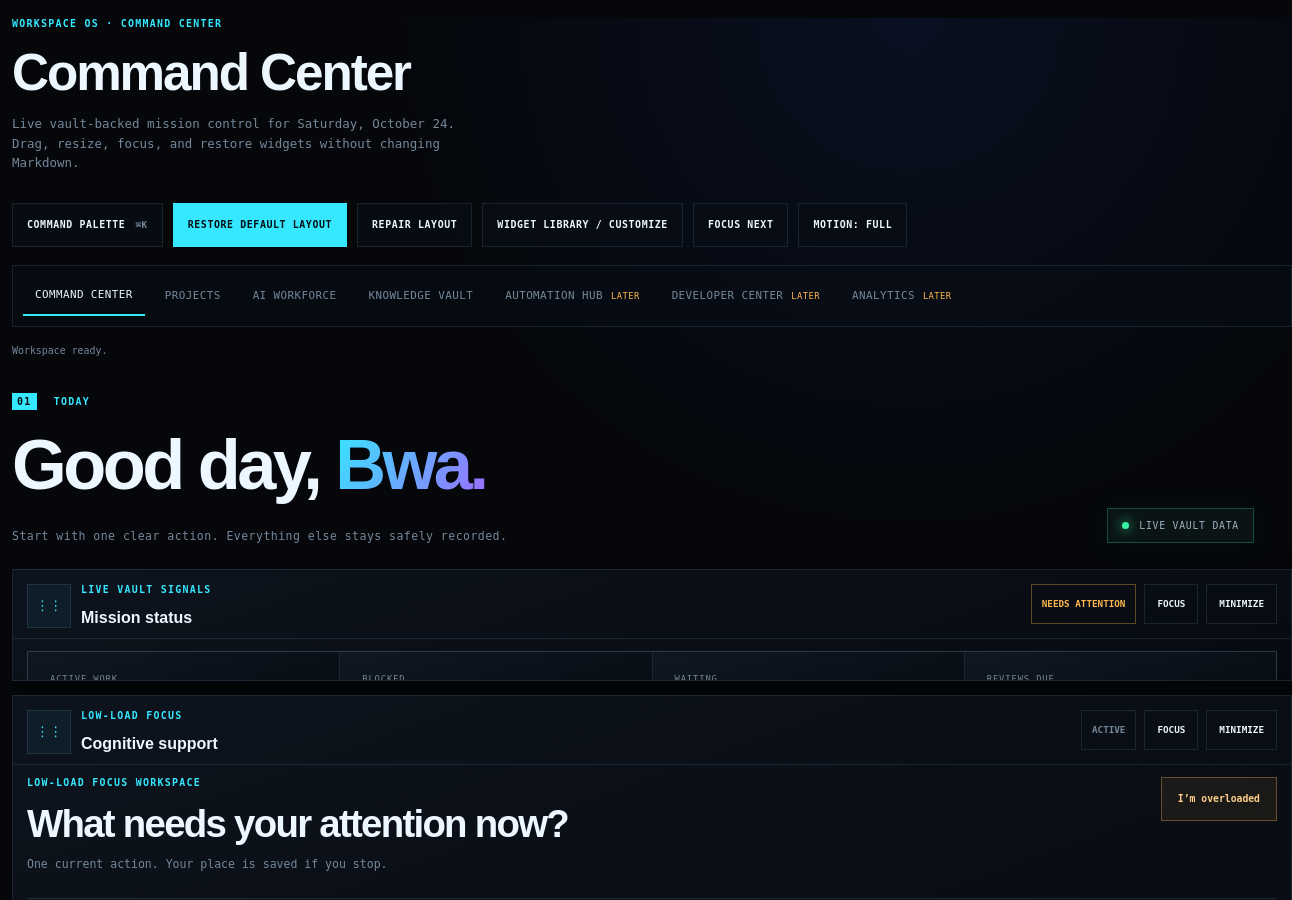
Test: Workspace OS Command Center › treats the layout as saved when only the last-workspace hint fails to store
Click the button "Repair layout" at (415, 225), box left=357, top=203, right=472, bottom=247
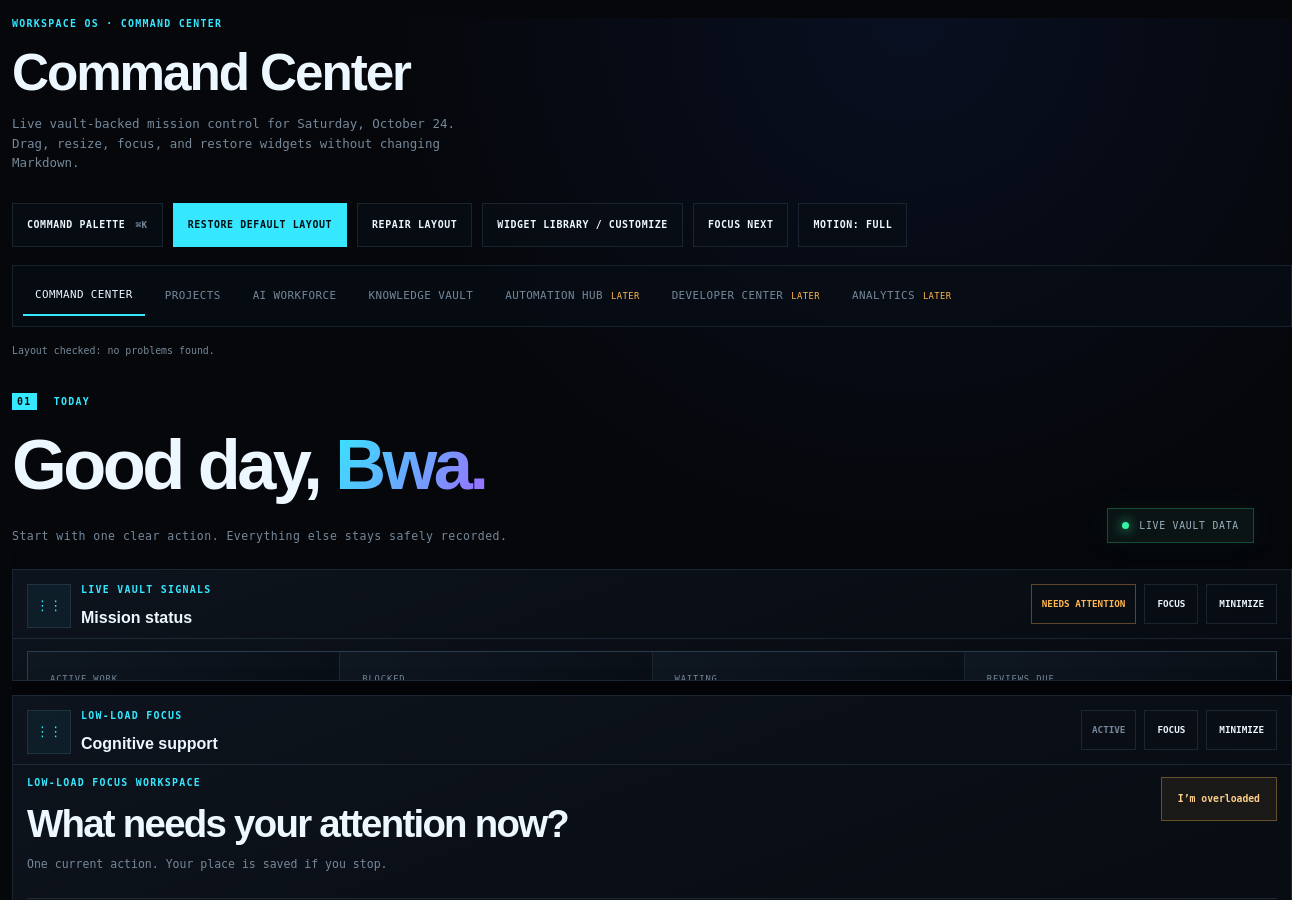
Now the text "Layout checked: no problems found." is shown, box left=12, top=345, right=215, bottom=356
